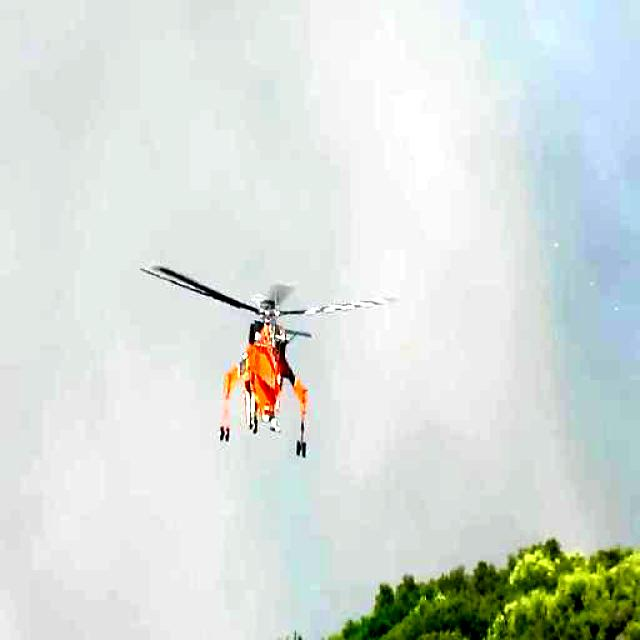drone: (136, 259, 398, 468)
